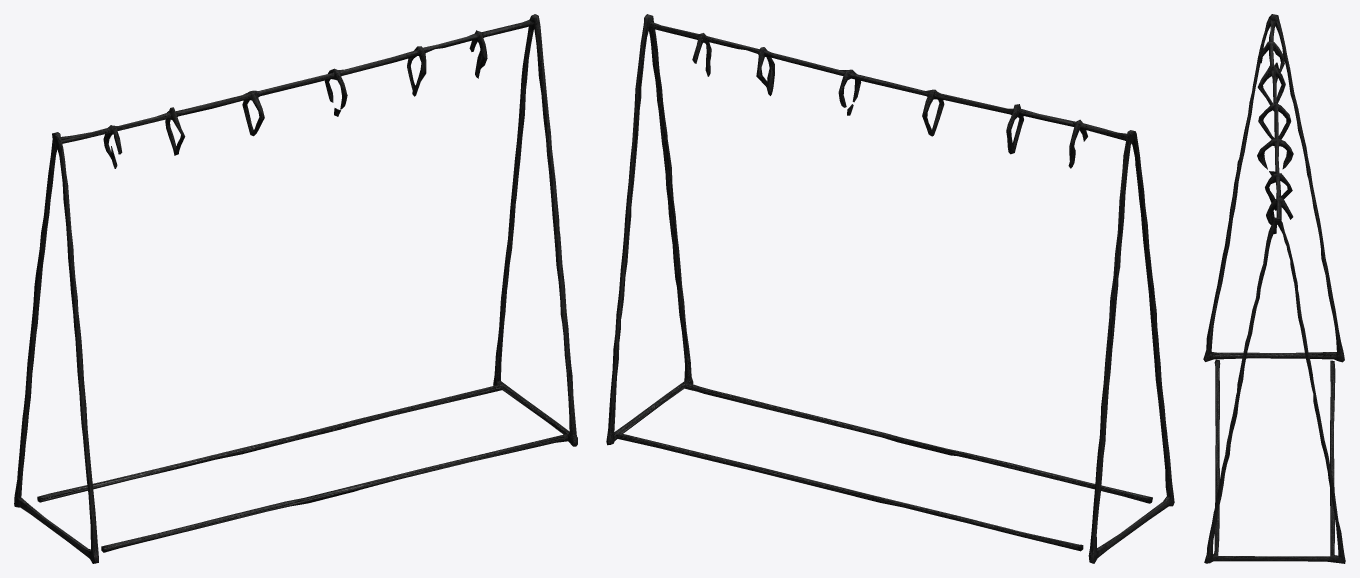
Rendered from backHanger.glb.
3 views of the same model, side by side, from view 1: azimuth 30°, elevation 25°; view 2: azimuth 150°, elevation 25°; view 3: azimuth 270°, elevation 25° (orthographic). The views are drawn at different scales.
Visible parts, largest first — view 1: geometry_0; view 2: geometry_0; view 3: geometry_0.
Boxes of the visible parts, <box> form: geometry_0: <box>14,14,577,563</box>; geometry_0: <box>606,14,1174,563</box>; geometry_0: <box>1203,14,1345,563</box>.
Size of the model in its own units: 1 by 0.7903 by 0.2939.
Materials: 1 (1 with a texture image).
